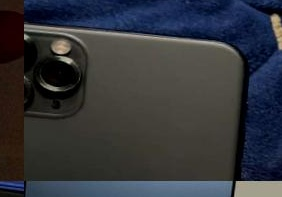scratch: (24, 67, 42, 94), (75, 71, 98, 90)
